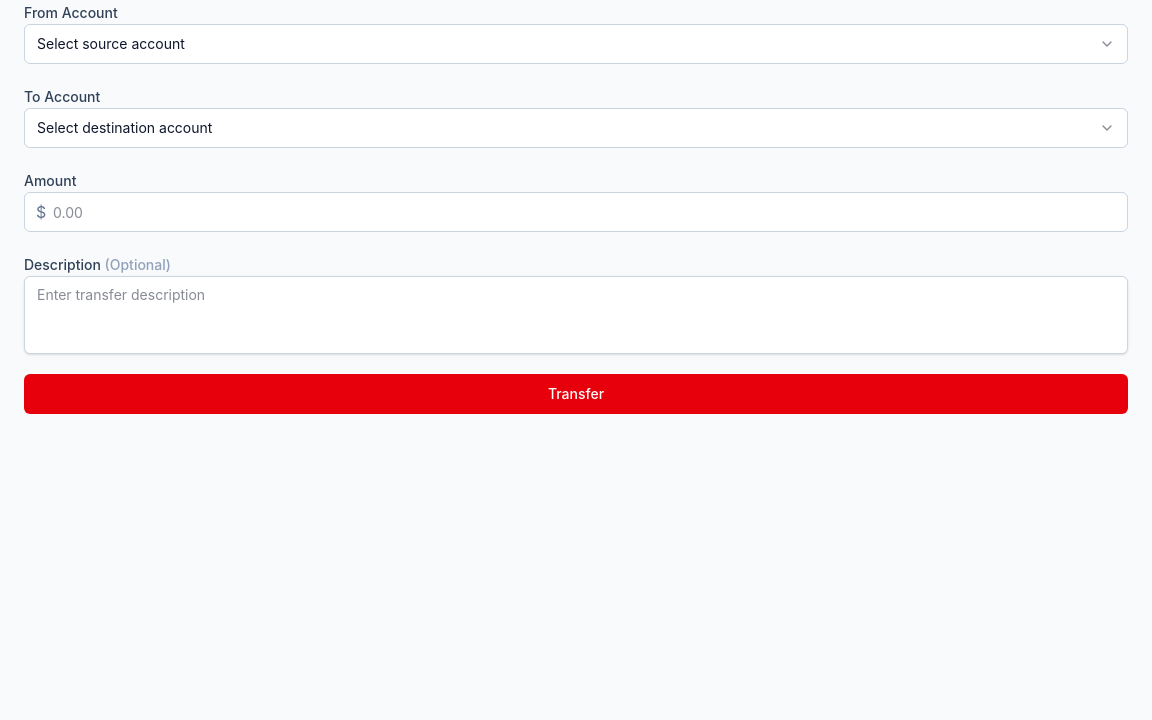
TransferForm › Form Submission - Error Handling › should not reset form on error
# Fill and submit form
Click the dropdown named "from account" at (111, 44), box [24,24,1128,64]
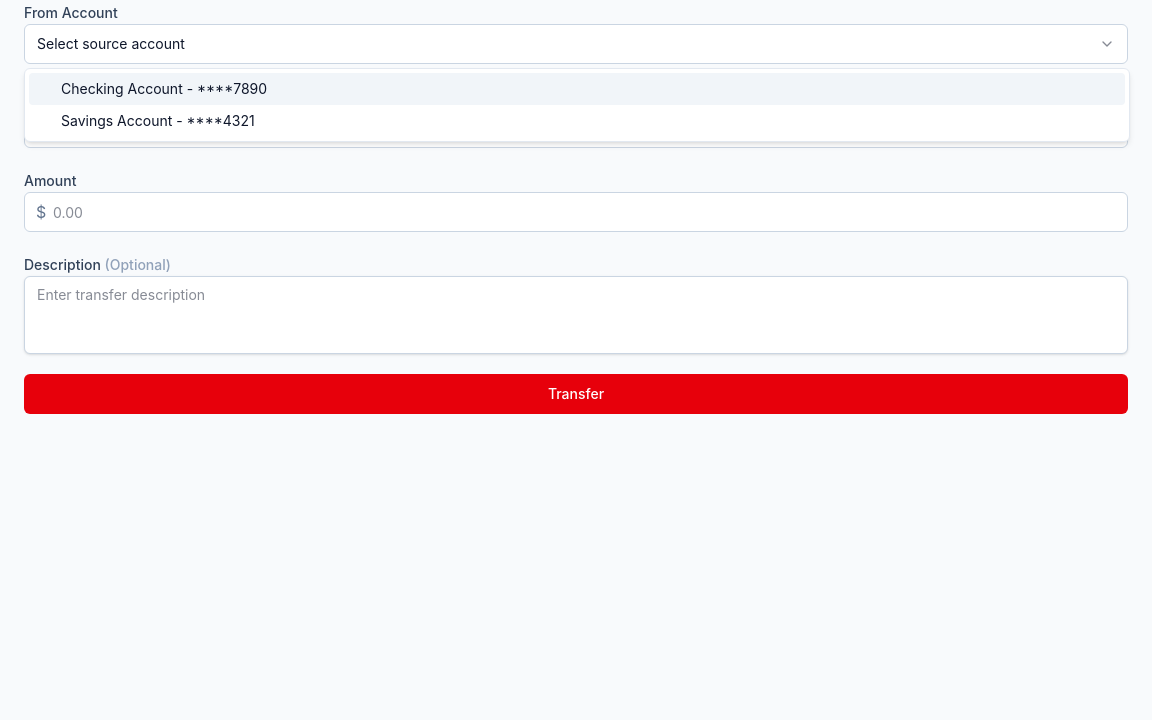
Click the option "Checking Account - ****7890" at (122, 88), box [29,73,1125,105]
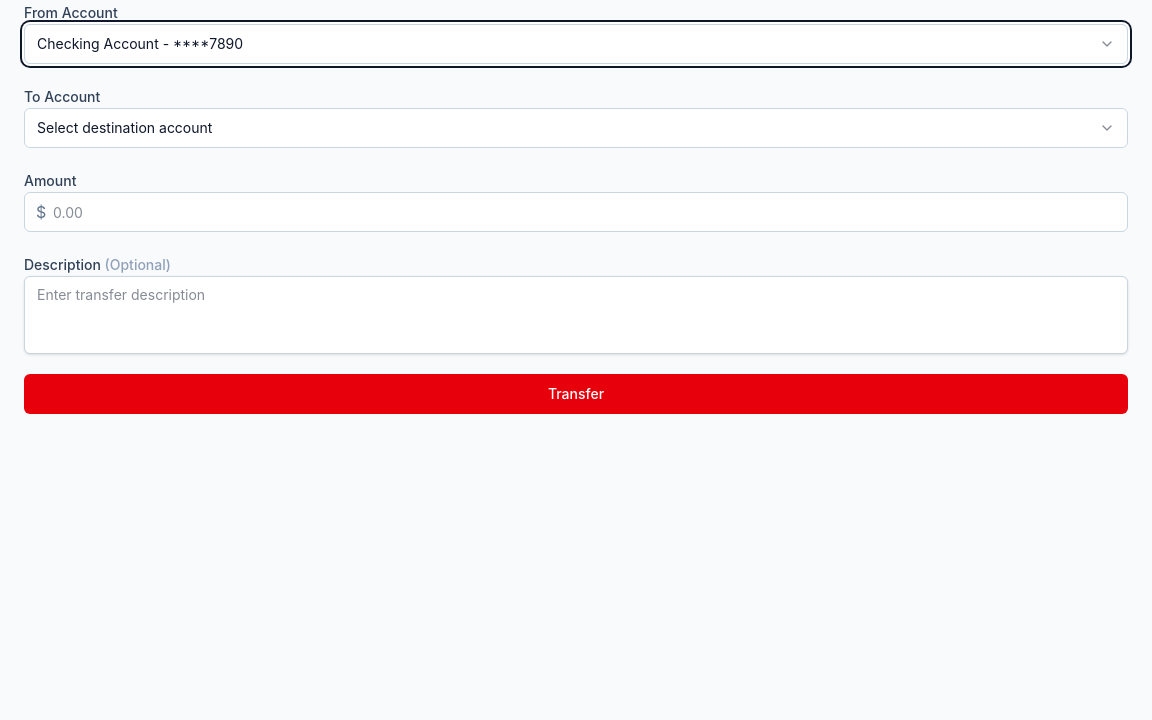
Click the dropdown named "to account" at (125, 128), box [24,108,1128,148]
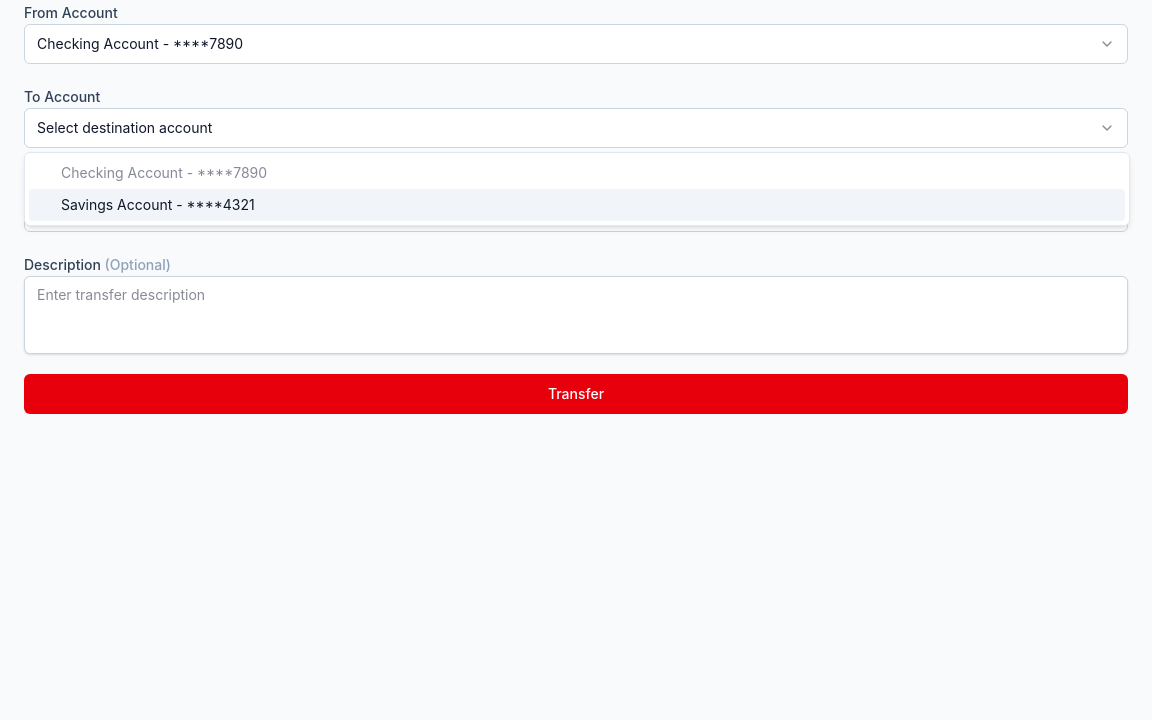
Click the option "Savings Account - ****4321" at (117, 204), box [29,189,1125,221]
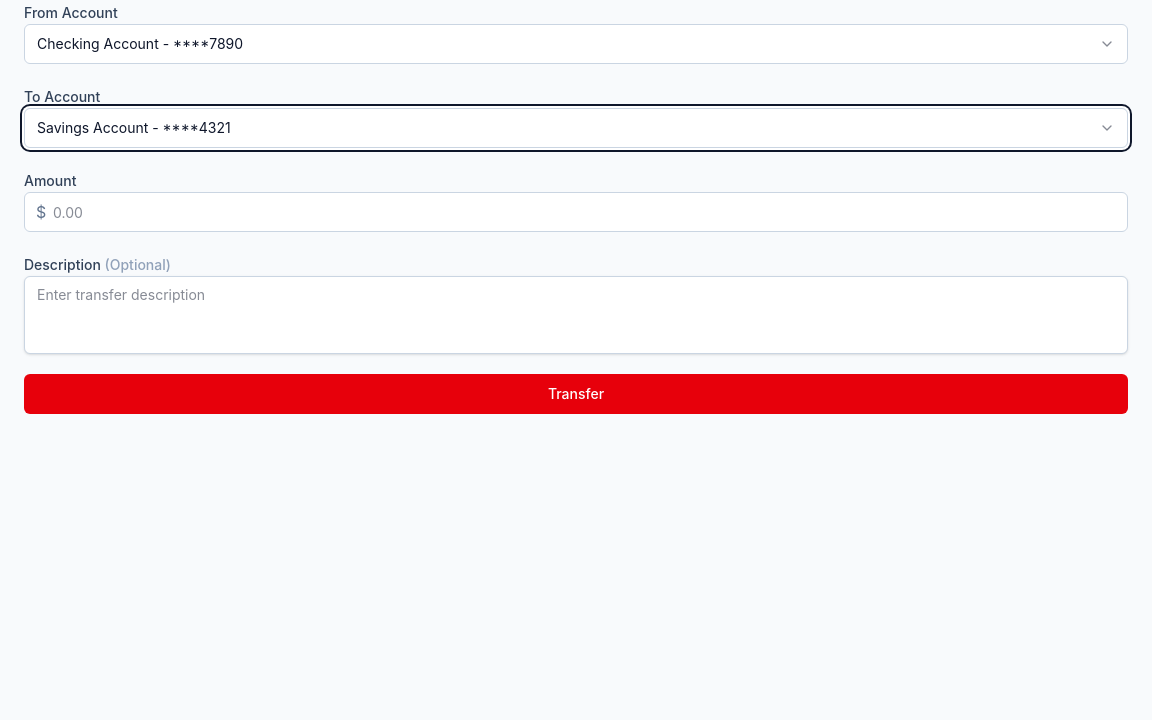
Type "100" into the field labelled "Amount" at (576, 212), box [24,192,1128,232]
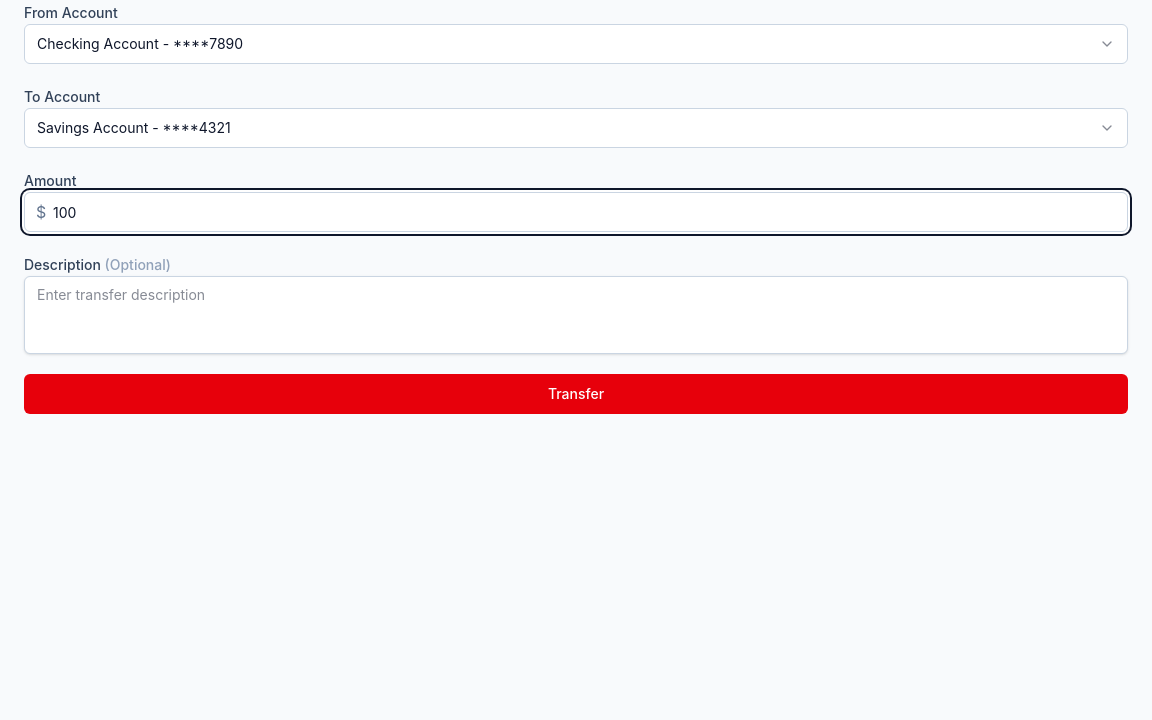
Click the button "Transfer" at (576, 394), box [24,374,1128,414]
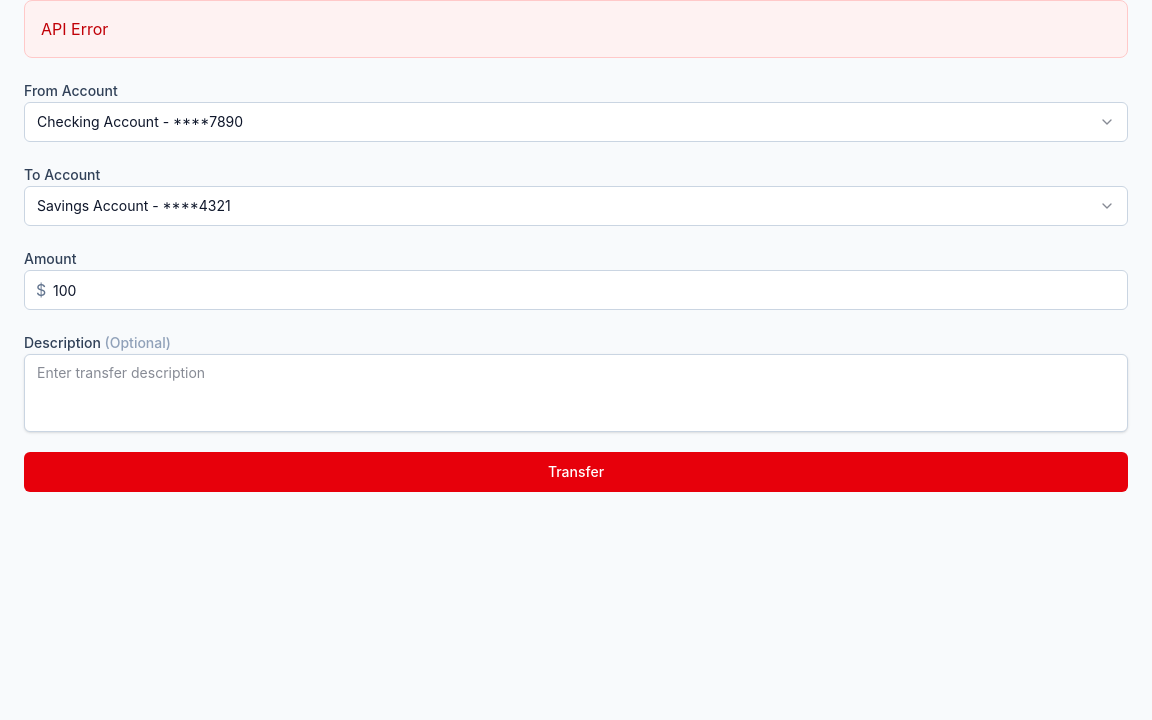
Expected: the text "API Error" is shown, [41,19,108,39]
